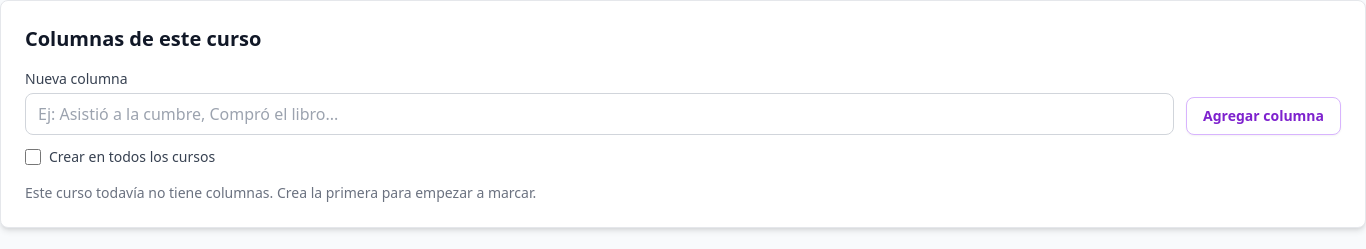
Test: GestionColumnasSeguimiento › crea con lo escrito y limpia el campo si salió bien
Type "Fue a la salida" into the field labelled "Nueva columna" at coordinates (600, 114), box [25,93,1174,135]
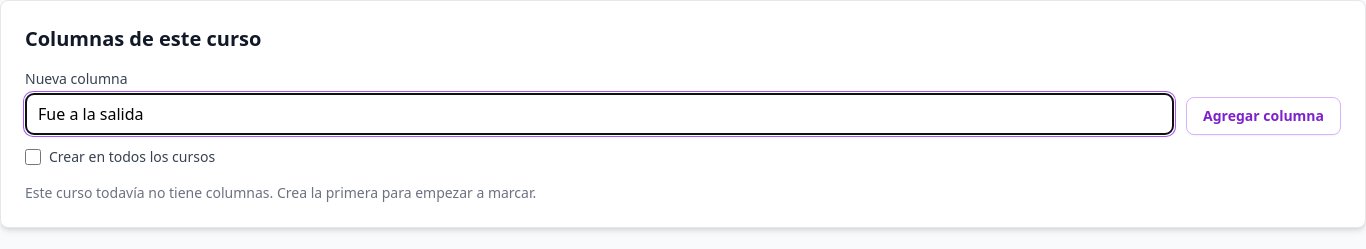
Click the button "Agregar columna" at coordinates (1264, 116), box [1186,97,1341,135]
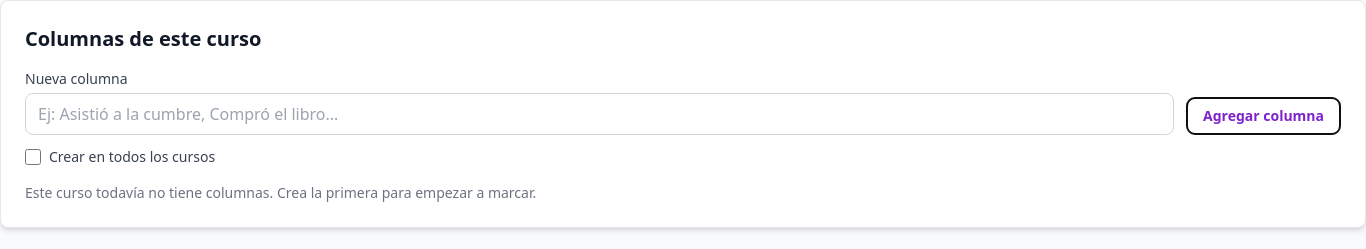
Now the field labelled "Nueva columna" is empty, box [25,93,1174,135]
